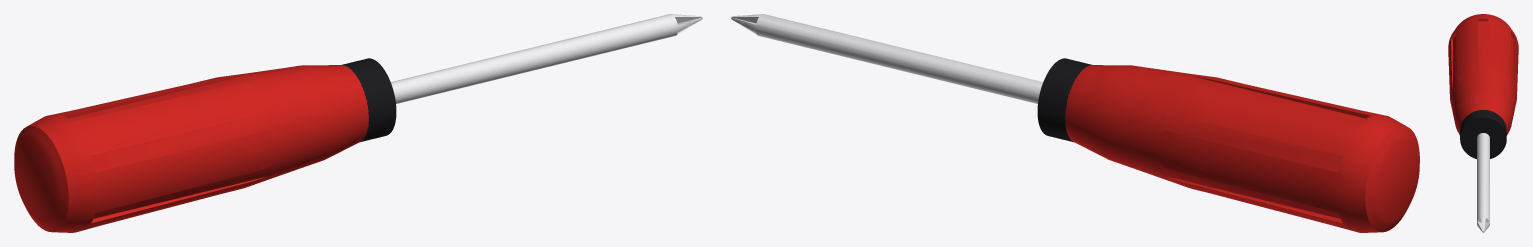
Rendered from screwdriver.glb.
3 renders of one model, left to right at view 1: azimuth 30°, elevation 25°; view 2: azimuth 150°, elevation 25°; view 3: azimuth 270°, elevation 25°, orthographic. The views are drawn at different scales.
Visible parts, largest first — view 1: screwdriver_red_handle, screwdriver_chrome, screwdriver_black_plastic; view 2: screwdriver_red_handle, screwdriver_chrome, screwdriver_black_plastic; view 3: screwdriver_red_handle, screwdriver_black_plastic, screwdriver_chrome.
Part boxes in pixels (x1=…): screwdriver_red_handle: x1=14, y1=65, x2=368, y2=232; screwdriver_chrome: x1=391, y1=14, x2=702, y2=103; screwdriver_black_plastic: x1=342, y1=58, x2=396, y2=141; screwdriver_red_handle: x1=1065, y1=65, x2=1419, y2=232; screwdriver_chrome: x1=731, y1=14, x2=1042, y2=103; screwdriver_black_plastic: x1=1037, y1=58, x2=1091, y2=142; screwdriver_red_handle: x1=1448, y1=14, x2=1518, y2=135; screwdriver_black_plastic: x1=1460, y1=110, x2=1506, y2=158; screwdriver_chrome: x1=1477, y1=133, x2=1489, y2=232.
Size of the model in its own units: 0.205 by 0.032 by 0.032.
